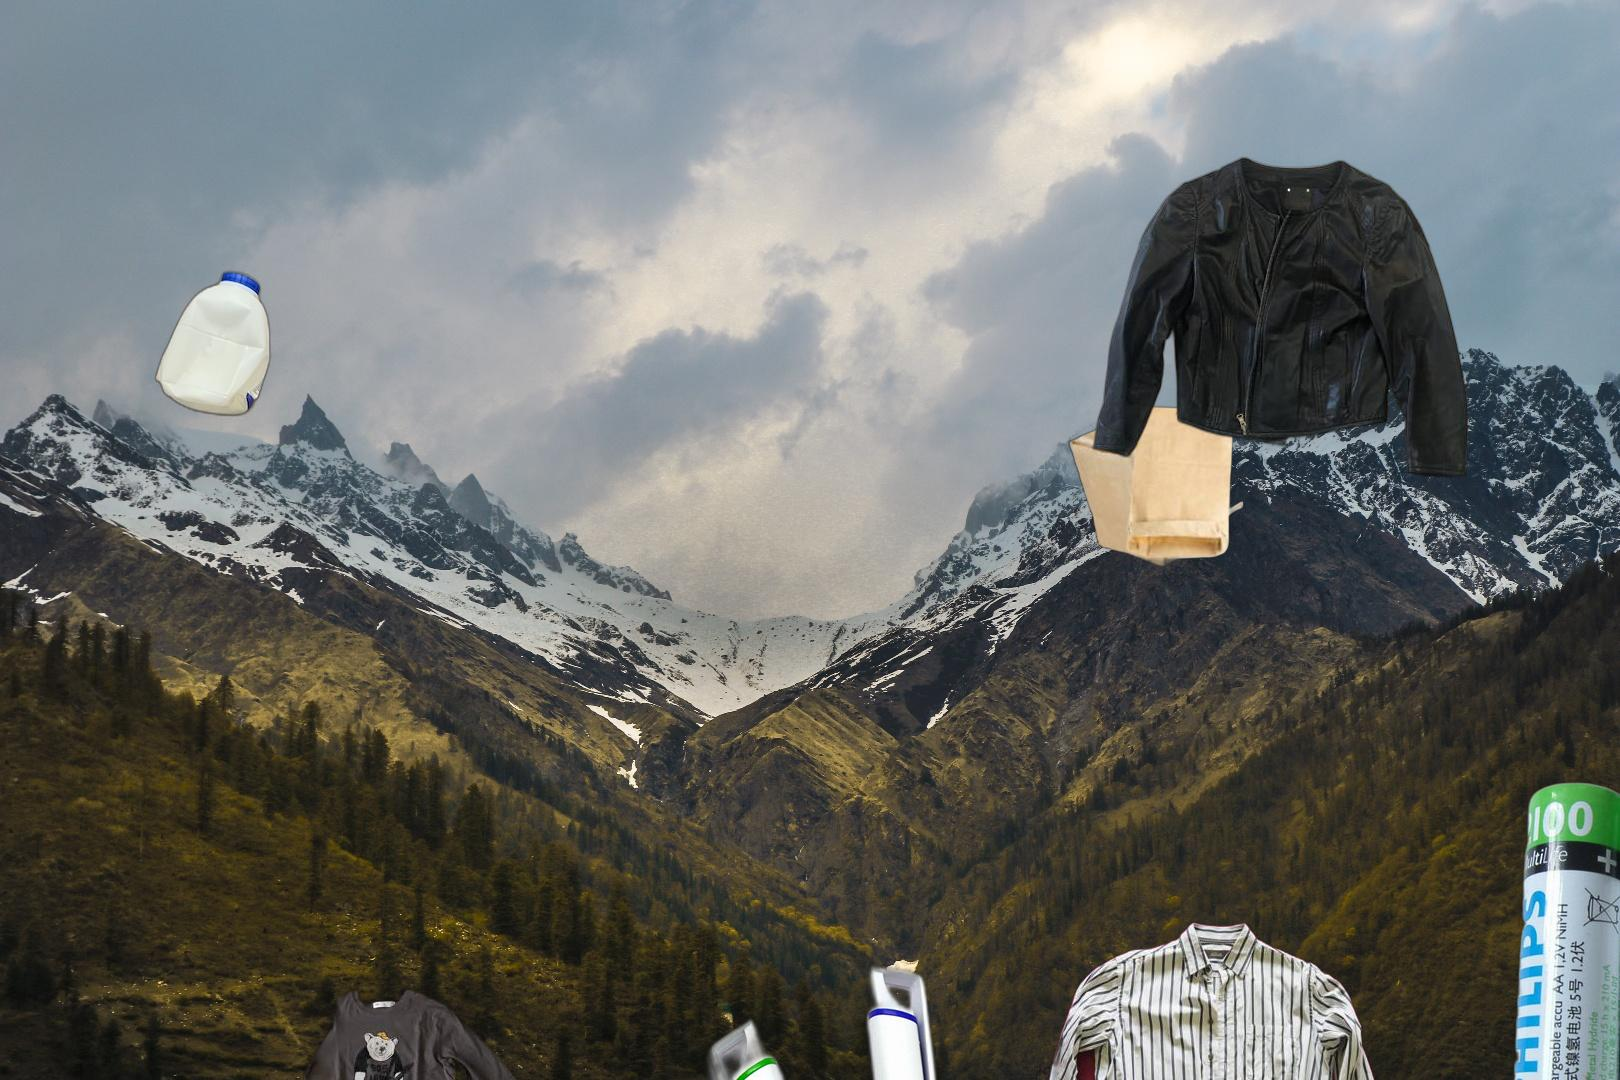battery: (1504, 771, 1620, 1080)
clothes: (1088, 152, 1471, 482), (1021, 917, 1403, 1080), (201, 984, 587, 1080)
paper-bag: (1066, 344, 1246, 569)
penholder: (470, 956, 1192, 1080)
plastic-bottles: (151, 266, 275, 422)
